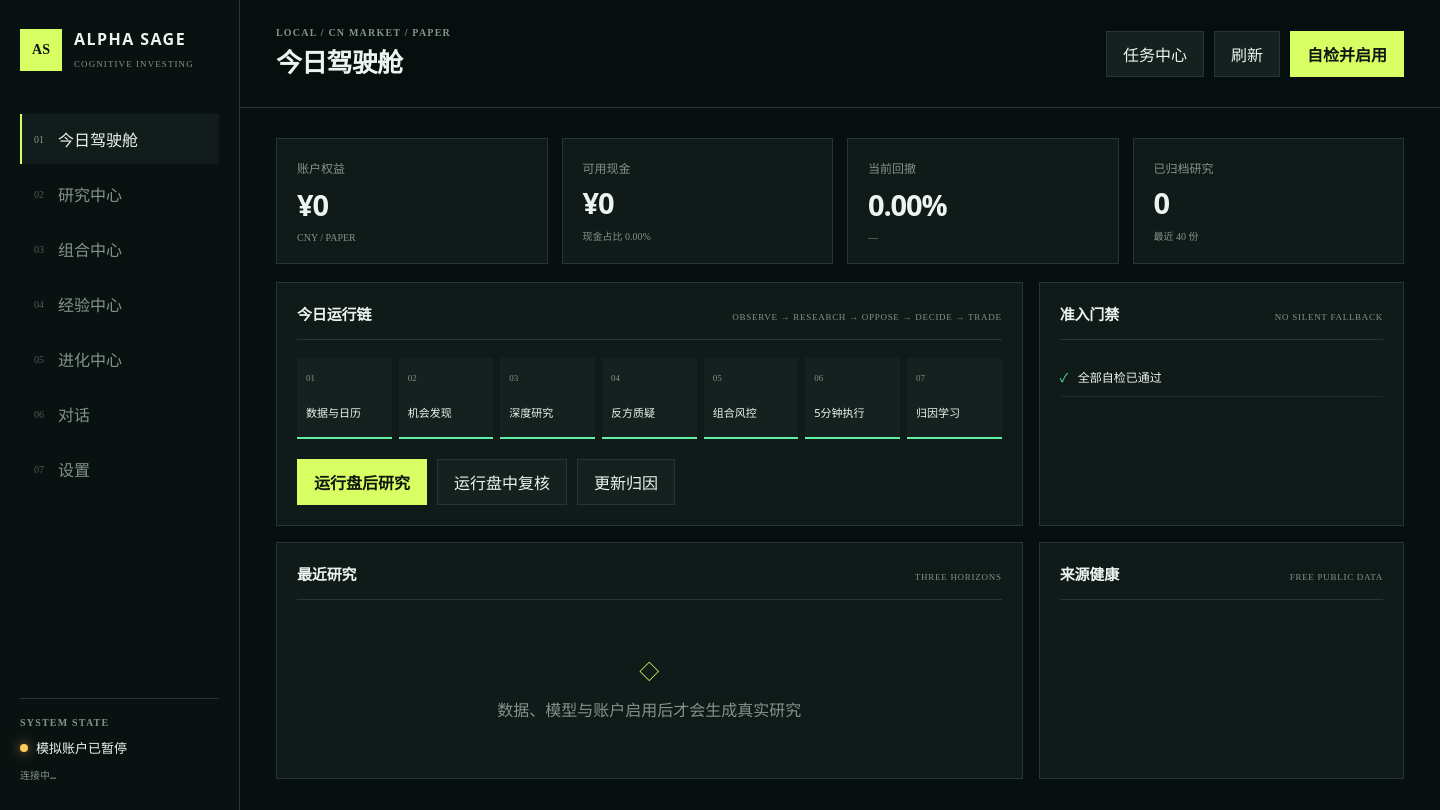
DashboardShell › keeps failed action feedback until the user closes it
The width and height of the screenshot is (1440, 810).
Click the button "任务中心": [1155, 54] box [1106,30,1204,76]
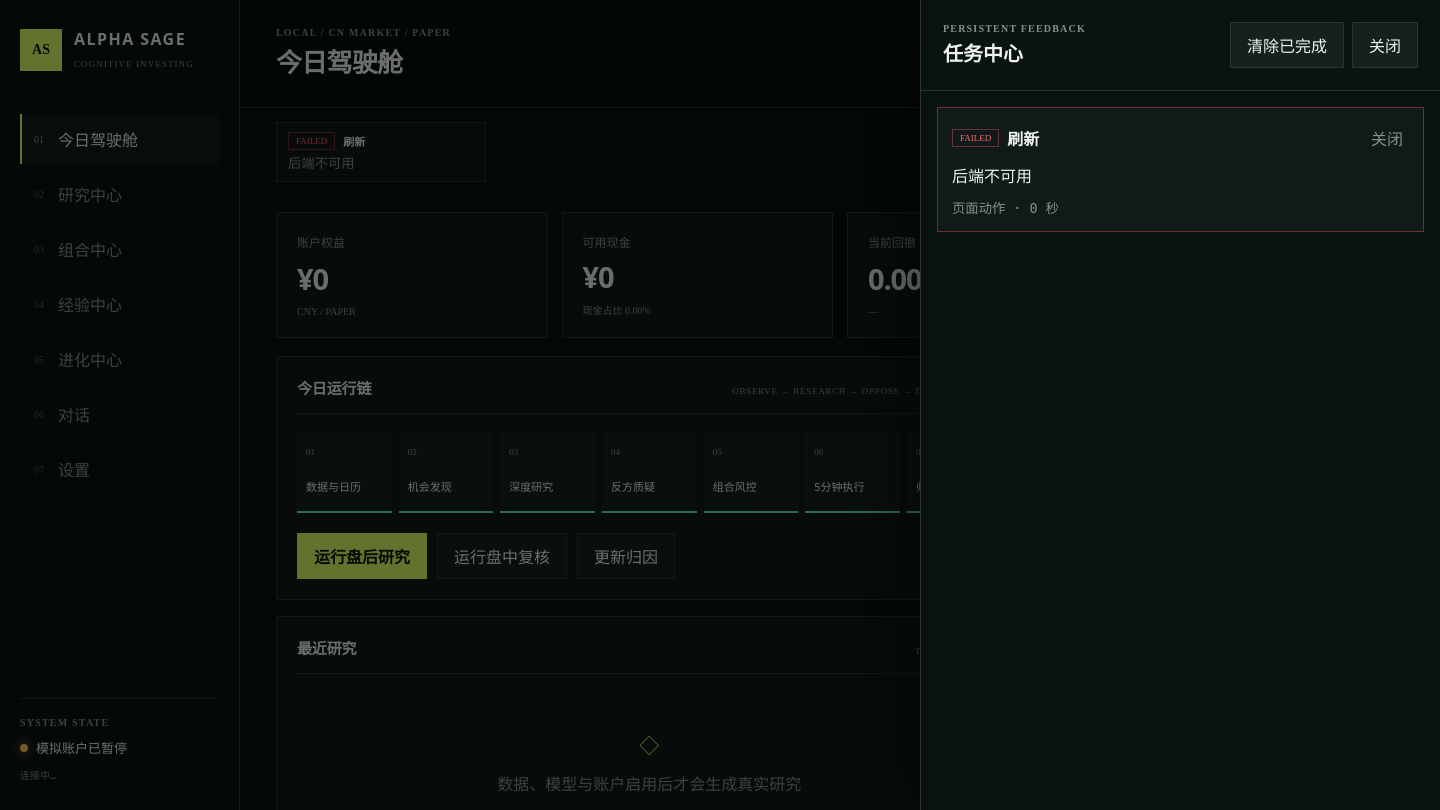
Expected: the text "后端不可用" below "LOCAL / CN MARKET / PAPER" is shown, [288,154,355,172]
Click the 2nd button "关闭": [1387, 138] box [1365,122,1409,154]
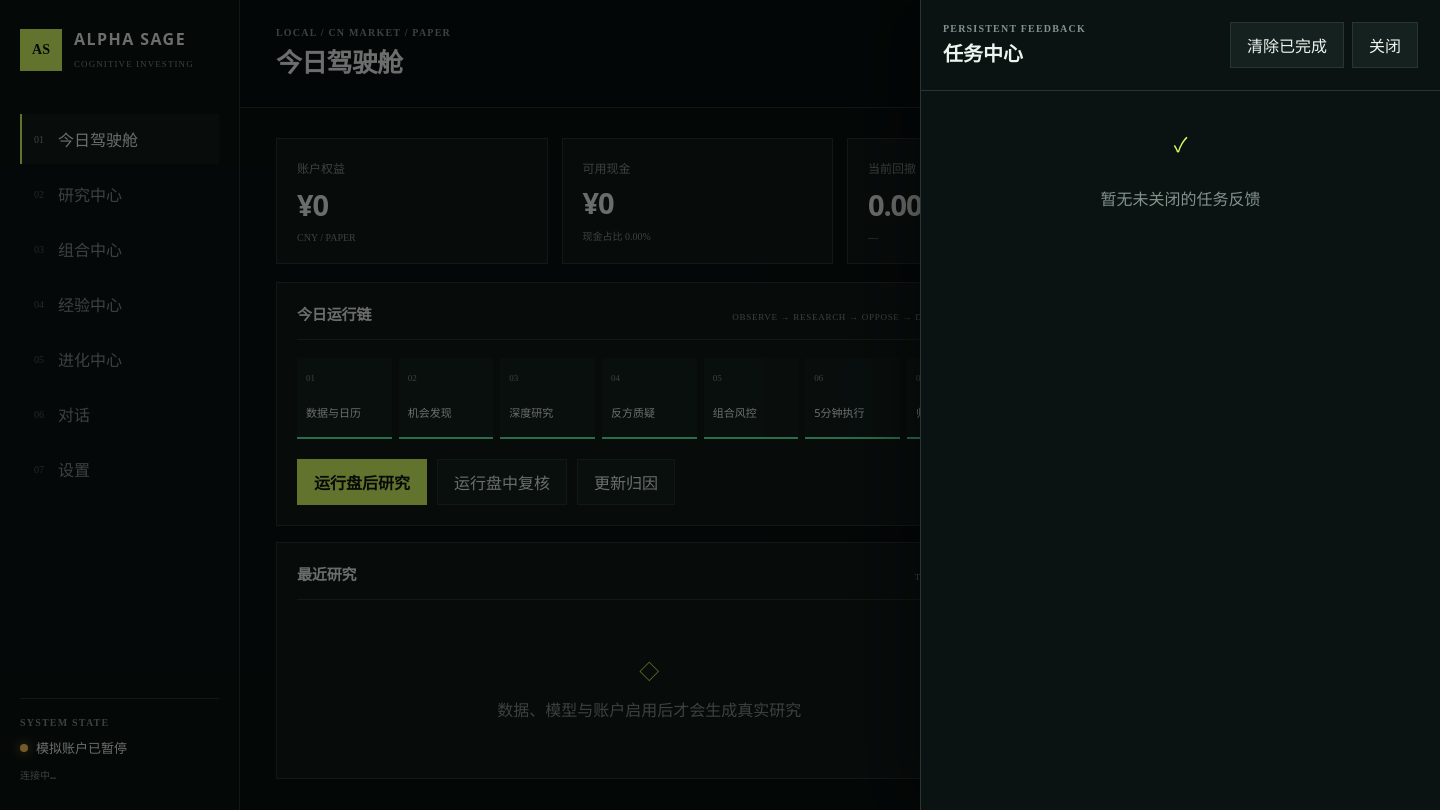
Expected: the button "后端不可用" is gone
